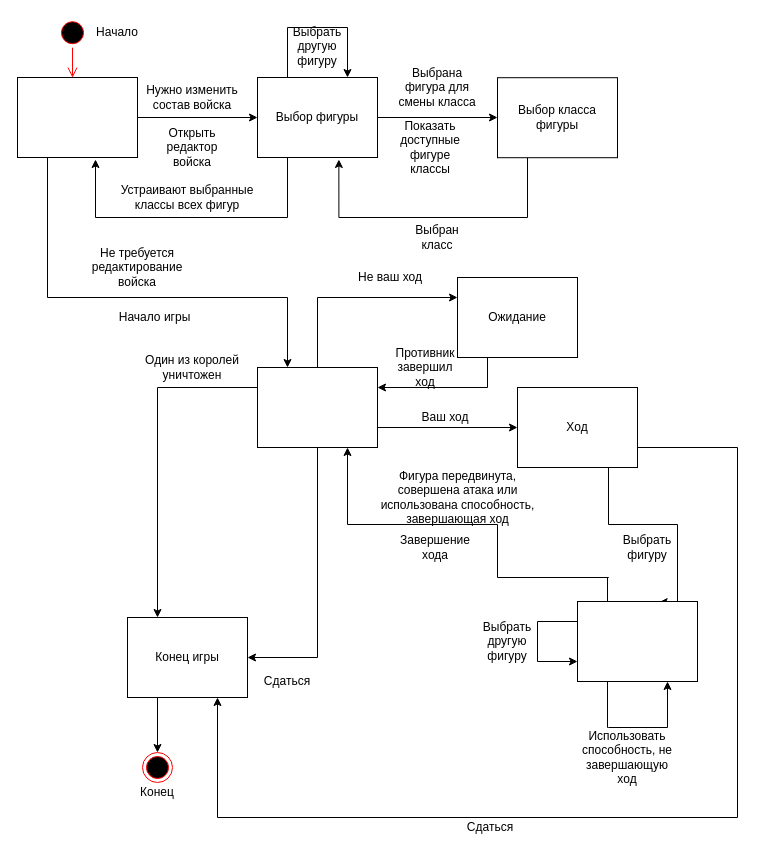
The diagram is 763 pixels wide and 855 high, and some of its shapes have lost their labels. The shapes that lost their labels are listed below. From the top down, each one's box as (x1, y1, x2, y2) in pixels, then its label:
(16, 76, 138, 158): Создание колоды (войска)
(256, 366, 378, 448): Игра
(576, 600, 698, 682): Фигура
